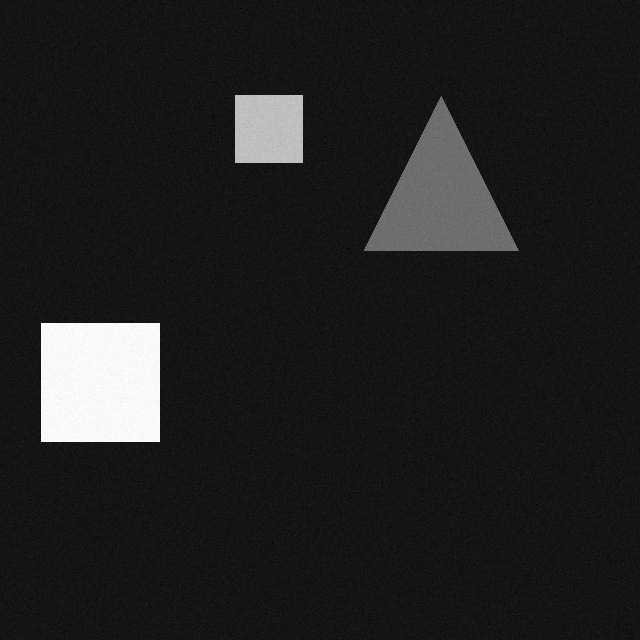square: (56, 316, 174, 434), (250, 88, 317, 155)
triangle: (379, 89, 533, 243)
